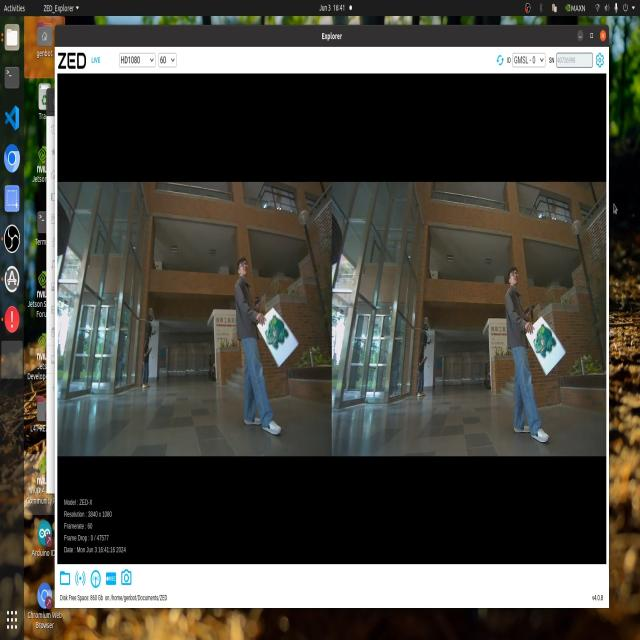green: (526, 311, 560, 365), (258, 310, 298, 350)
